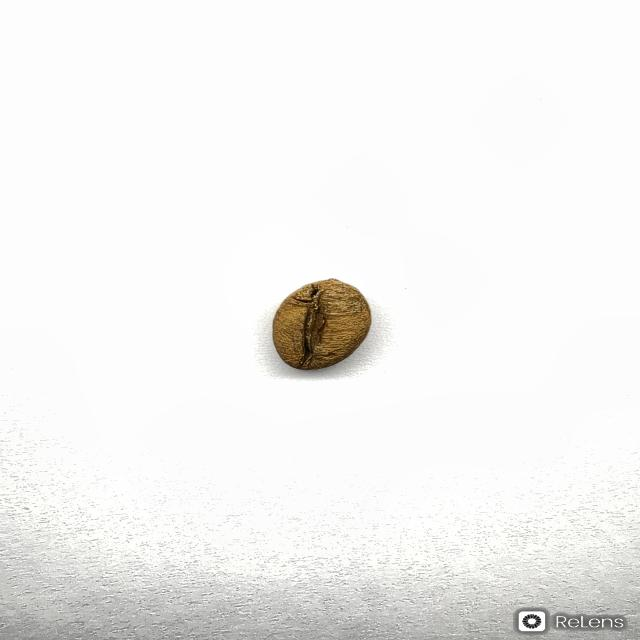Quaker: (271, 277, 372, 370)
